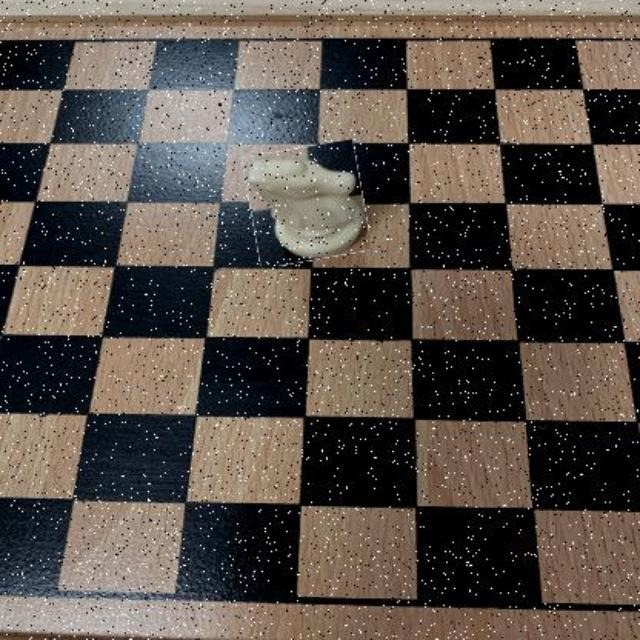white-knight: (246, 144, 367, 264)
